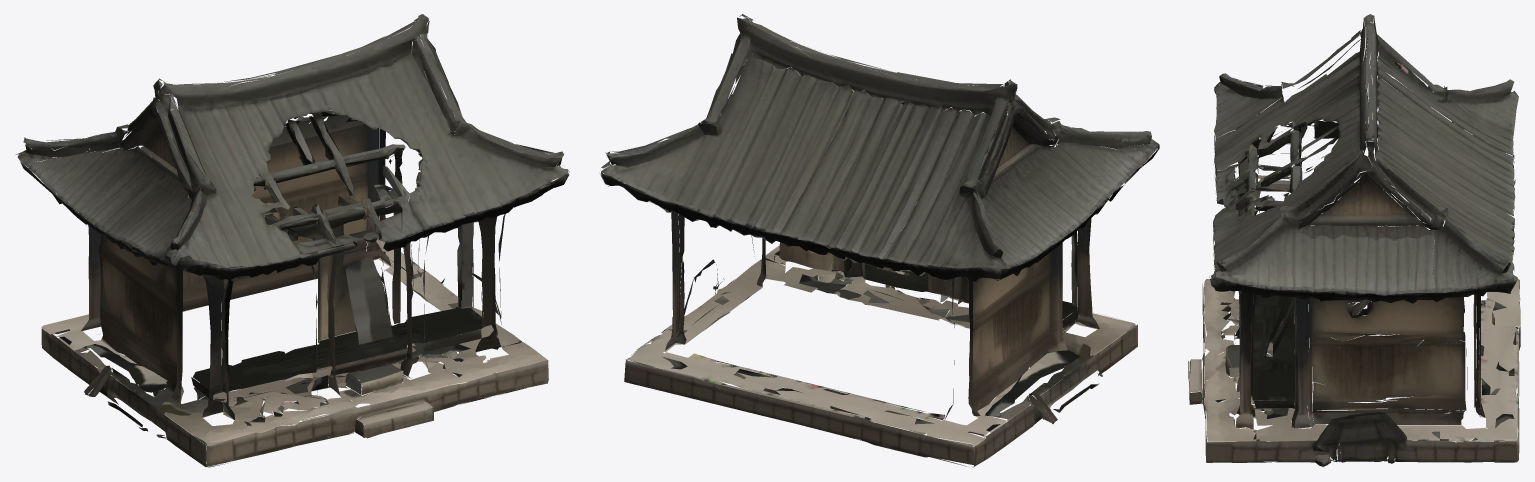
The model's file is charredHouse.glb.
3 renders of one model, left to right at view 1: azimuth 30°, elevation 25°; view 2: azimuth 150°, elevation 25°; view 3: azimuth 270°, elevation 25°, orthographic. The views are drawn at different scales.
Parts seen in each view (by area): view 1: Prop_charredHouse; view 2: Prop_charredHouse; view 3: Prop_charredHouse.
Part boxes in pixels (x1,y1,x2,y2): Prop_charredHouse: (15, 14, 569, 467); Prop_charredHouse: (600, 14, 1159, 467); Prop_charredHouse: (1188, 14, 1520, 466).
Size of the model in its own units: 5.93 by 4.5 by 4.41.
1 material, 1 textured.
